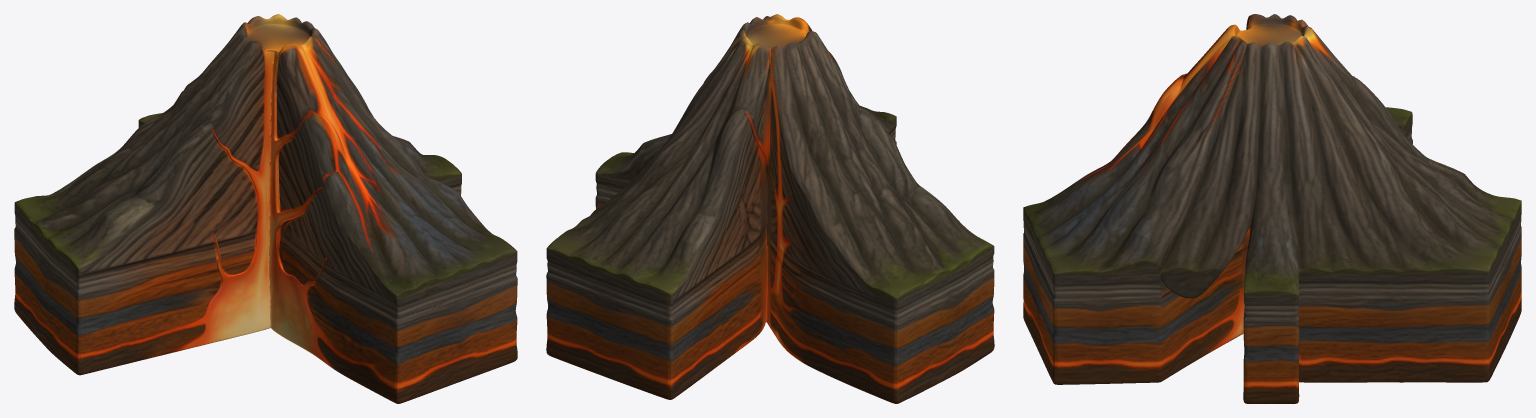
File: volcano_interior.glb
3 views of the same model, side by side, from view 1: azimuth 30°, elevation 25°; view 2: azimuth 150°, elevation 25°; view 3: azimuth 270°, elevation 25° (orthographic). The views are drawn at different scales.
Parts seen in each view (by area): view 1: material; view 2: material; view 3: material.
Boxes of the visible parts, box(x1,y1,x2,y2) form: material: box(14, 14, 517, 403); material: box(546, 14, 994, 403); material: box(1023, 14, 1521, 403).
Bounding box in the file's own units: 0.8364 × 0.5964 × 0.9243.
Materials: 1 (1 with a texture image).
